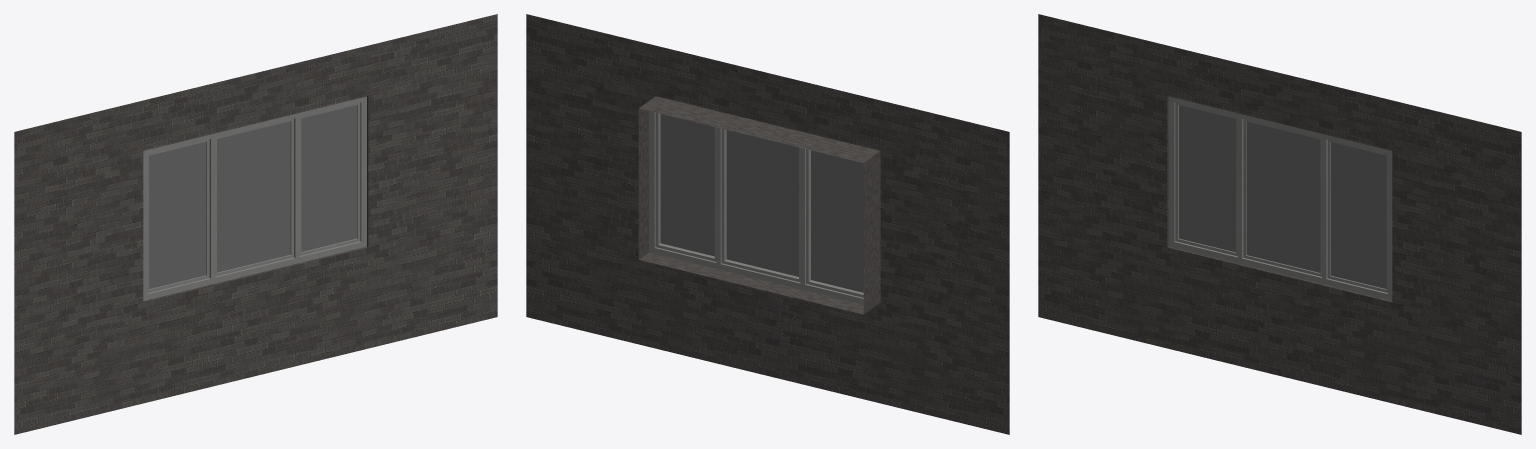
The model's file is Sm_Window01.fbx.
The picture shows the model from 3 angles, left to right: view 1: azimuth 30°, elevation 25°; view 2: azimuth 150°, elevation 25°; view 3: azimuth 330°, elevation 25°; orthographic projection.
Parts seen in each view (by area): view 1: Sm_Window01; view 2: Sm_Window01; view 3: Sm_Window01.
Boxes of the visible parts, left/top/right/bottom form: Sm_Window01: left=14, top=14, right=497, bottom=434; Sm_Window01: left=526, top=14, right=1009, bottom=434; Sm_Window01: left=1038, top=14, right=1521, bottom=434.
Size of the model in its own units: 501 by 30.37 by 300.
3 materials, 3 textured.
